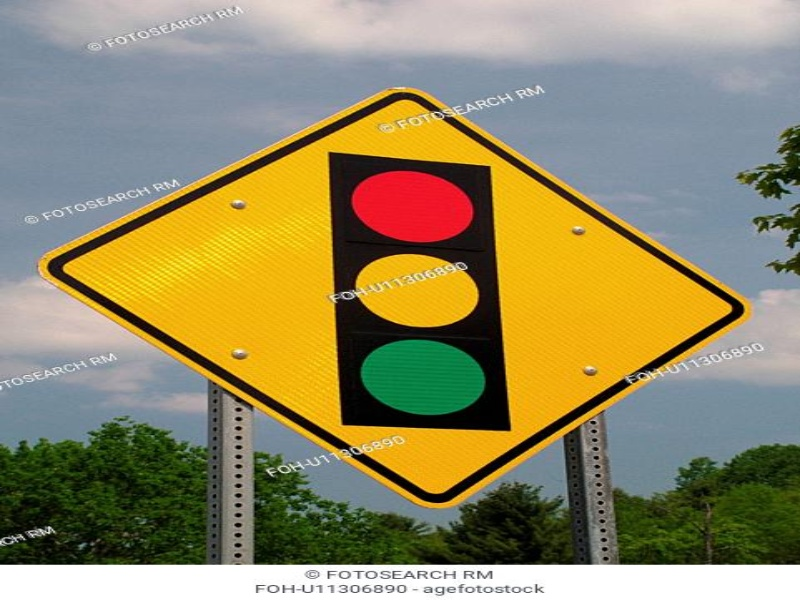traffic signal sign: (34, 83, 757, 511)
